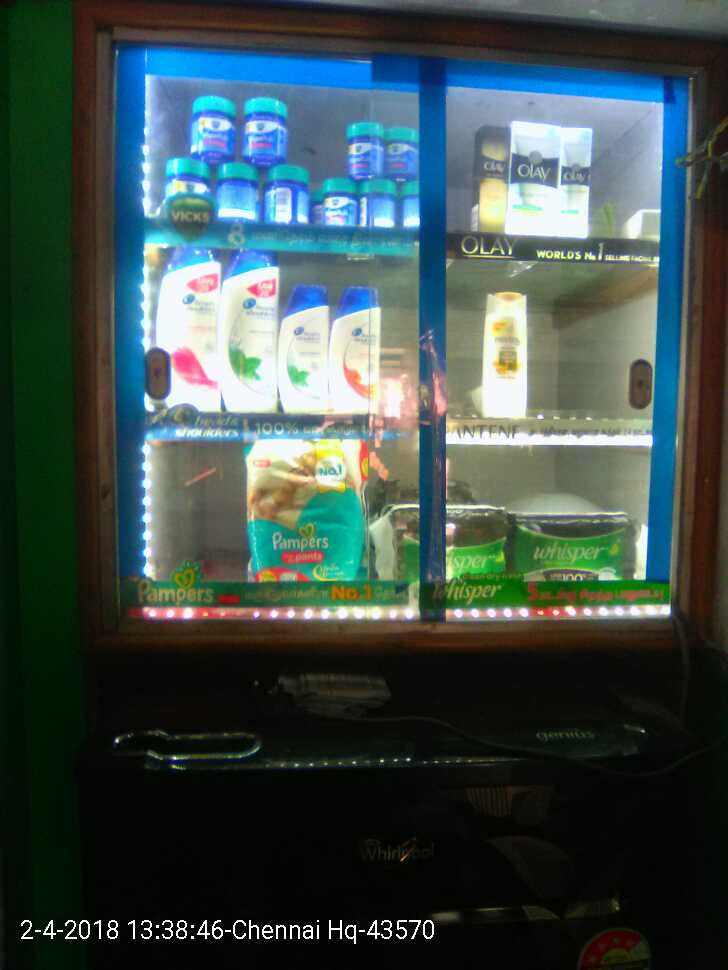vicks: (162, 85, 418, 226)
